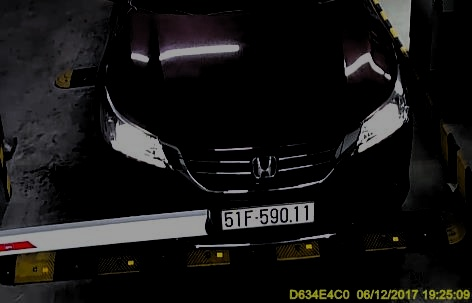plate: (218, 199, 318, 235)
